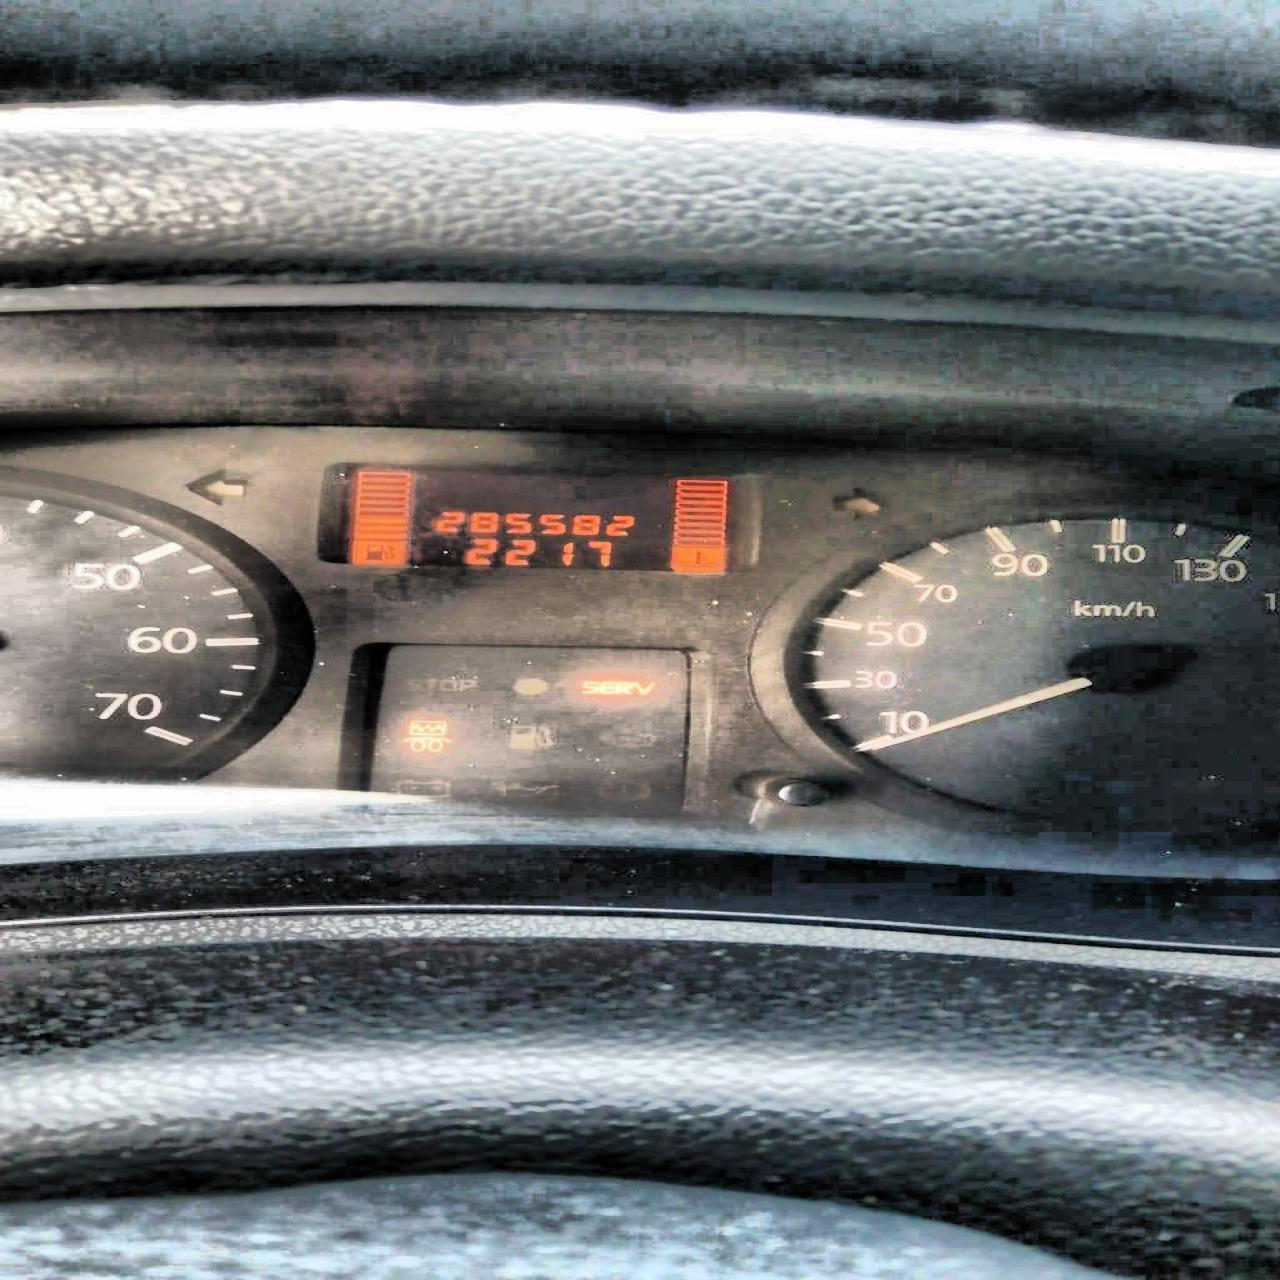1: (560, 542, 574, 565)
2: (464, 538, 496, 564), (503, 539, 535, 564), (433, 511, 463, 531), (604, 515, 634, 535)
5: (503, 513, 531, 533), (538, 513, 566, 533)
7: (586, 540, 611, 566)
8: (568, 515, 599, 535), (468, 512, 497, 532)
odometer: (341, 468, 741, 573)
